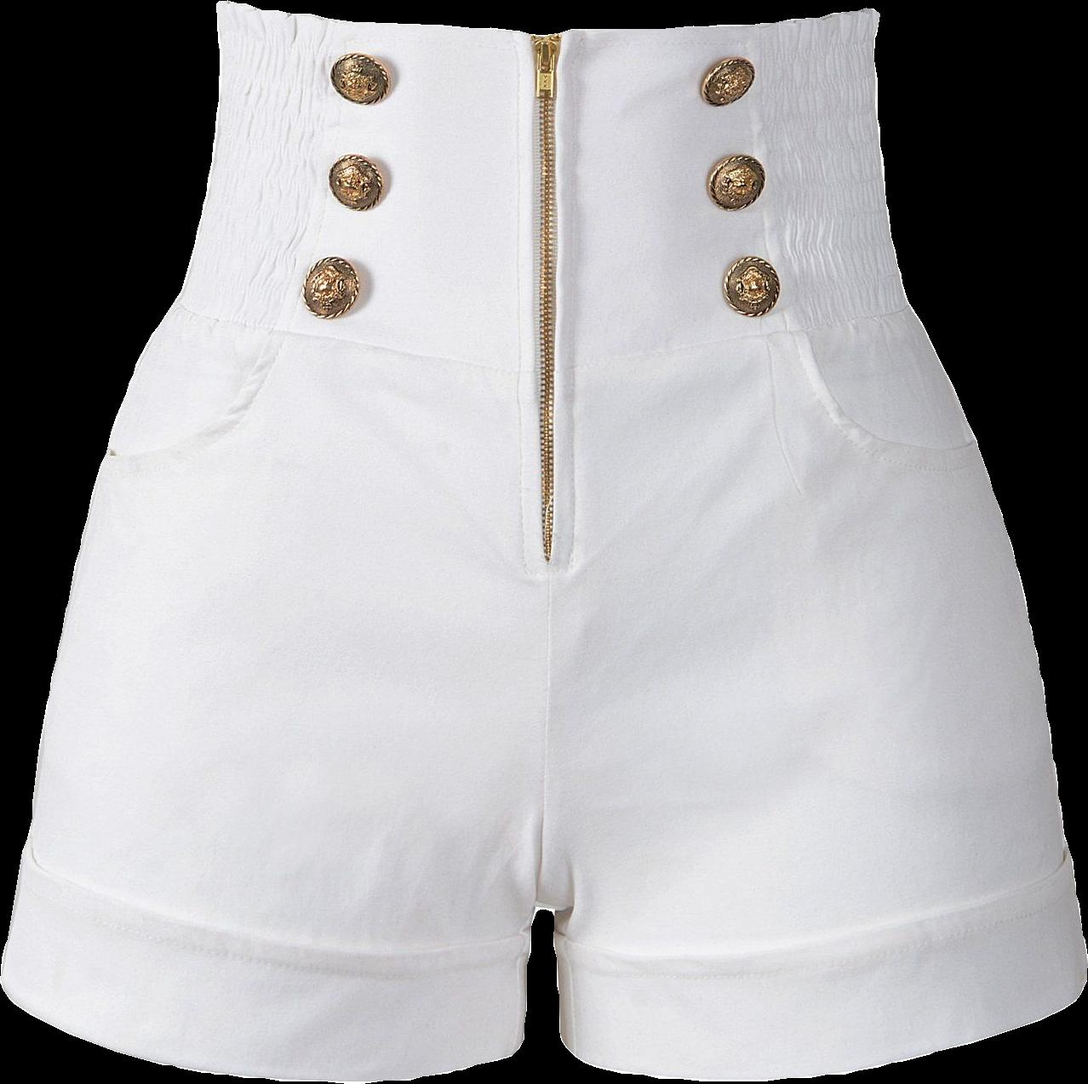Hemline: (0, 972, 531, 1082), (556, 974, 1087, 1083)
Pantleg: (533, 9, 1086, 1081), (1, 0, 547, 1081)
Waistline: (170, 286, 919, 377), (215, 0, 882, 44)
